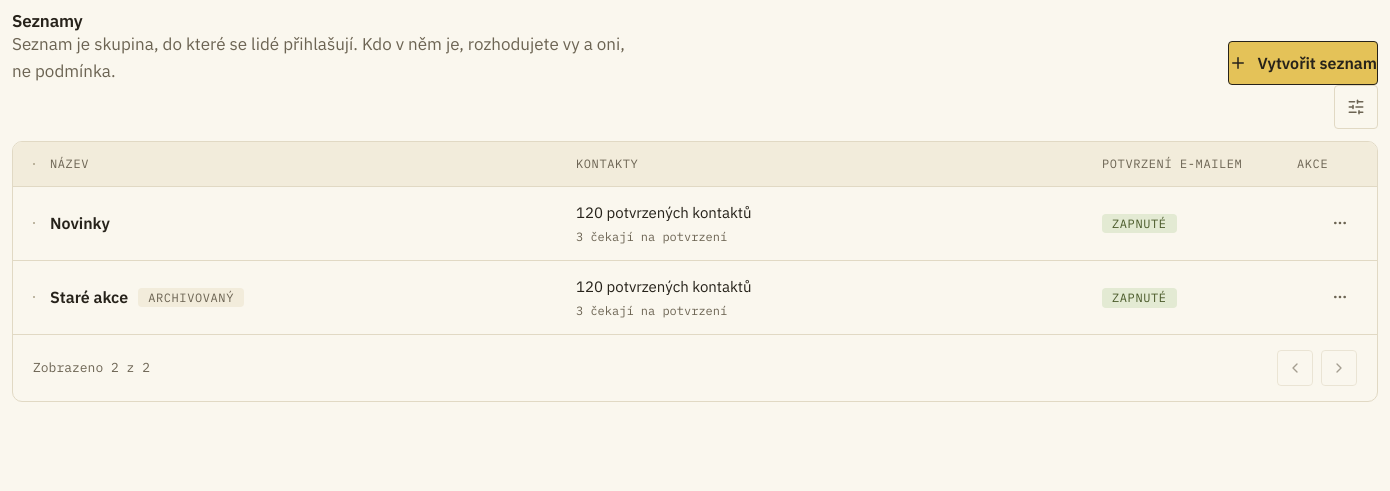
Test case: hromadná archivace seznamů › výběr vede k akci, ne jen k počtu
Click the 1st checkbox named "Název" at (34,223), box [33,222,35,224]
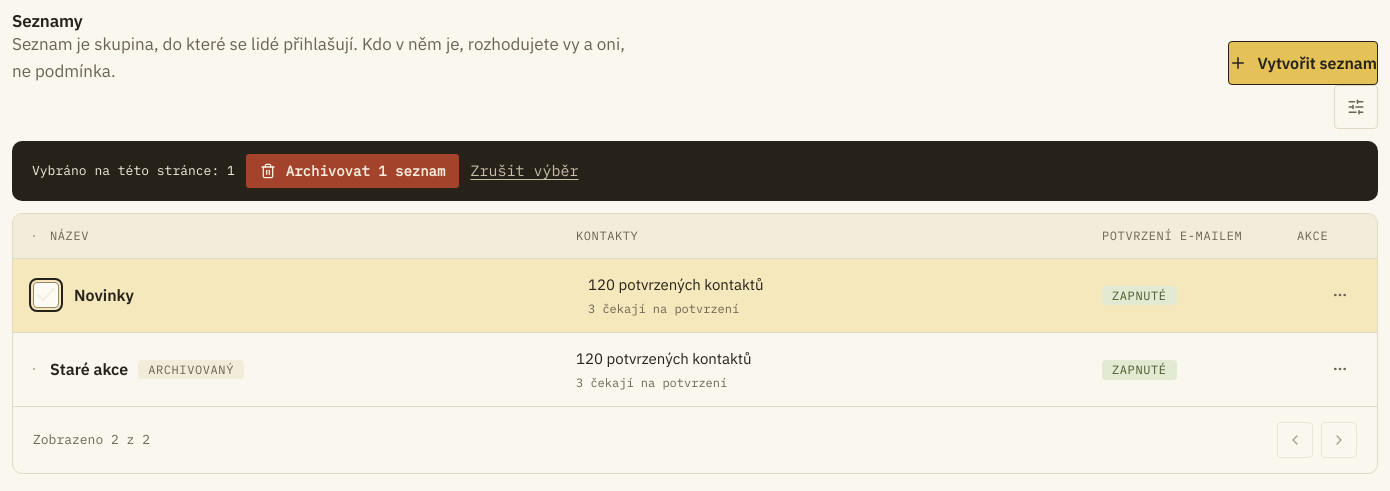
Result: the element with test id "selection-bar" is shown at [12,141,1378,201]
Result: the button with test id "lists-bulk-delete" reads "Archivovat 1 seznam" at [245,153,460,189]
